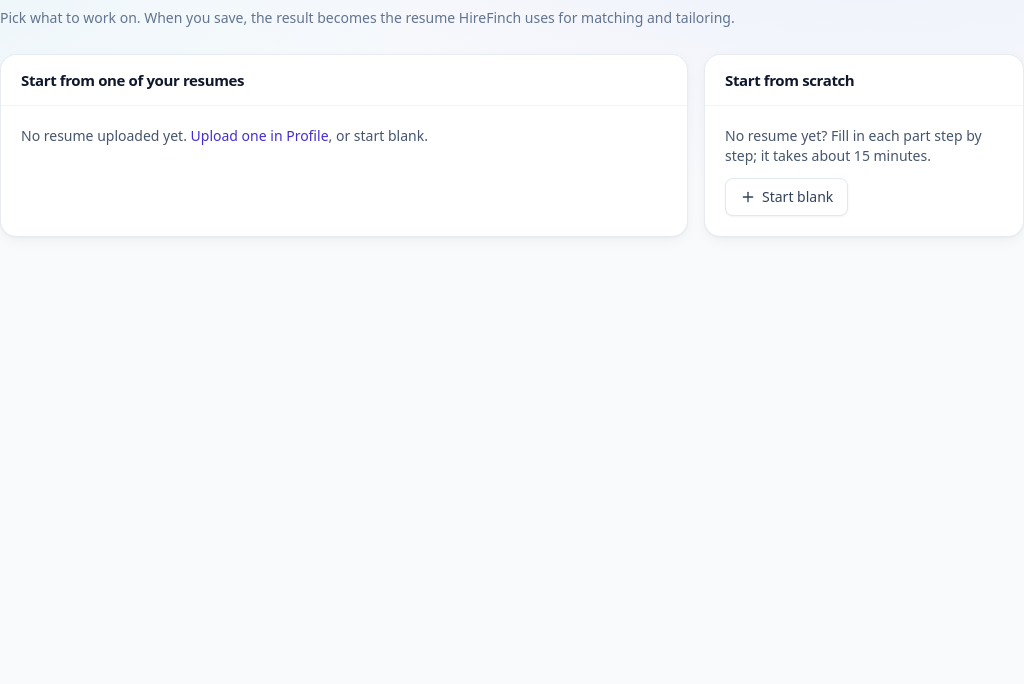
Test: ResumeBuilderPage › fixes all it can, shows the changes, and applies them only on request
This screenshot has width=1024, height=684.
Click the button "Start blank": [787, 197] box [725,178,848,216]
(page scrolled)
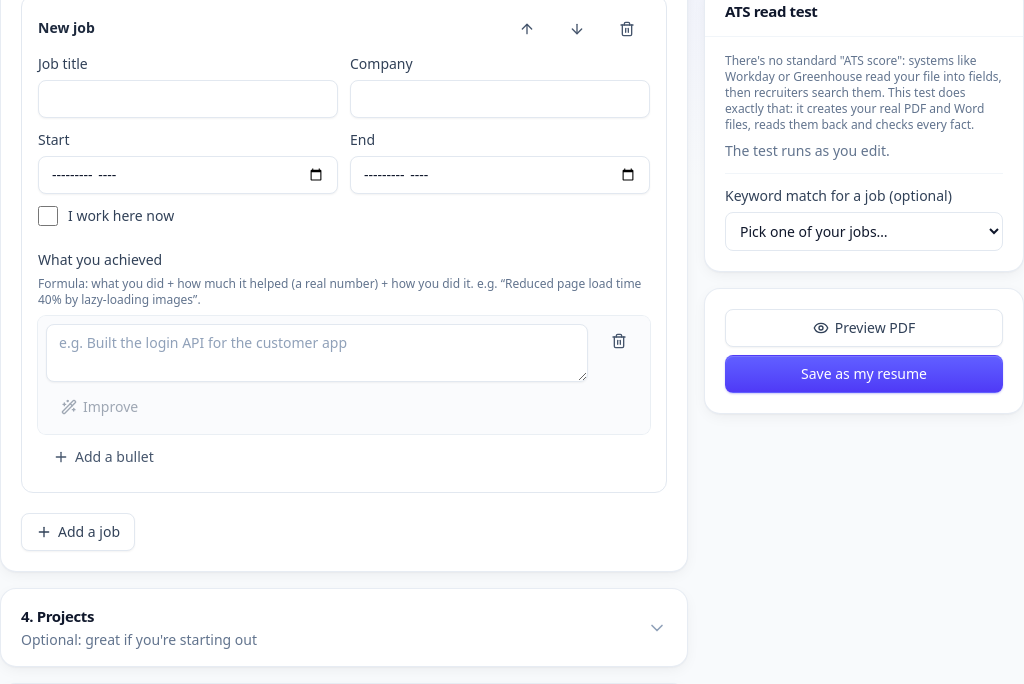
In the text box named "Bullet": [317, 353] box [46,324,588,382], type "made login api"
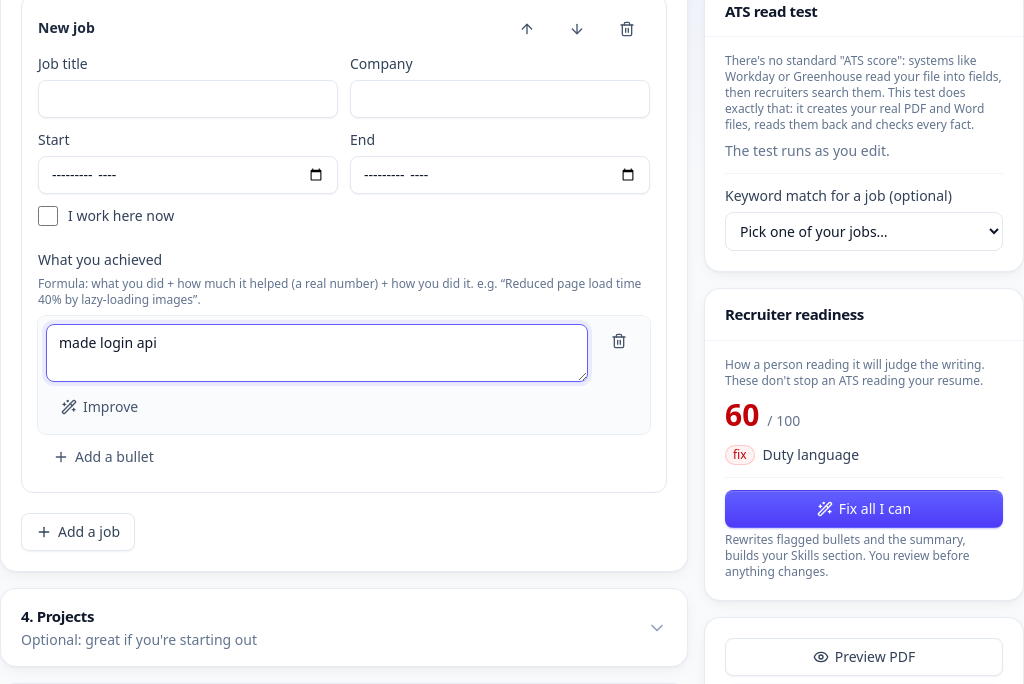
Click the button "Fix all I can": [864, 509] box [725,490,1003,528]
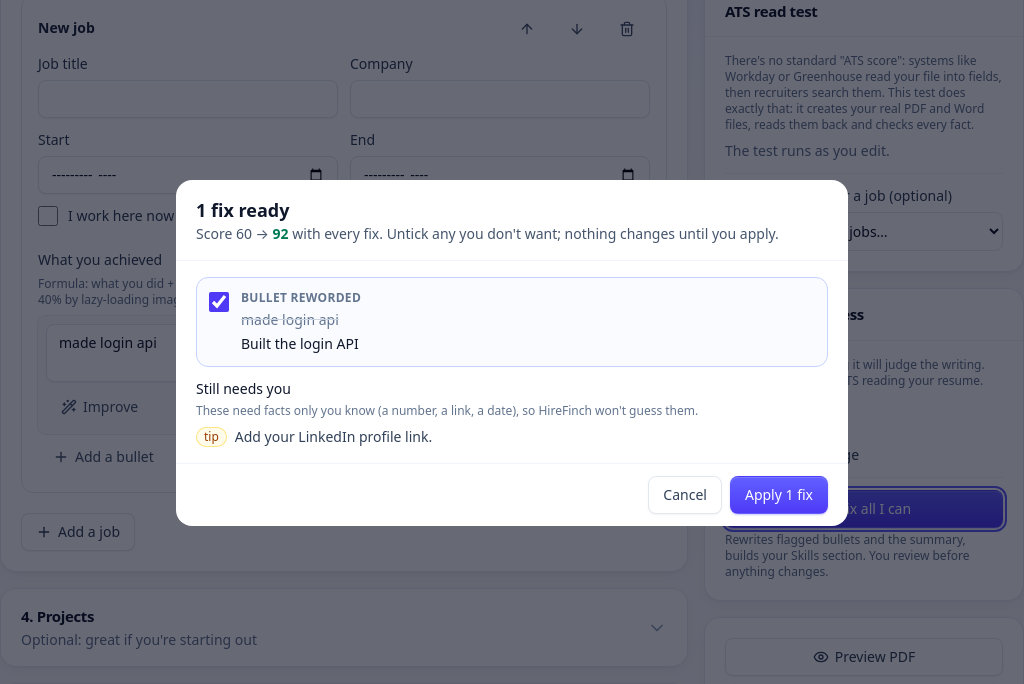
Now the text "Score 60" is shown, box [196,224,828,244]
Now the text "Add your LinkedIn profile link." is shown, box [235,427,432,447]
Click the button "Apply 1 fix": [779, 495] box [730,476,828,514]
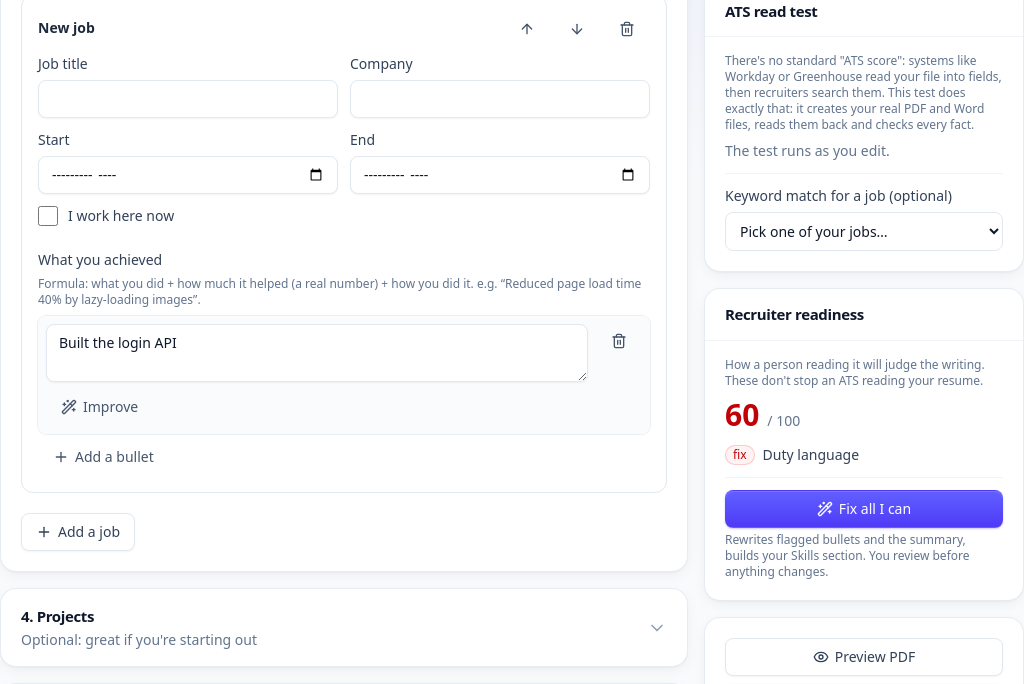
Now the text box named "Bullet" holds "Built the login API", box [46,324,588,382]
